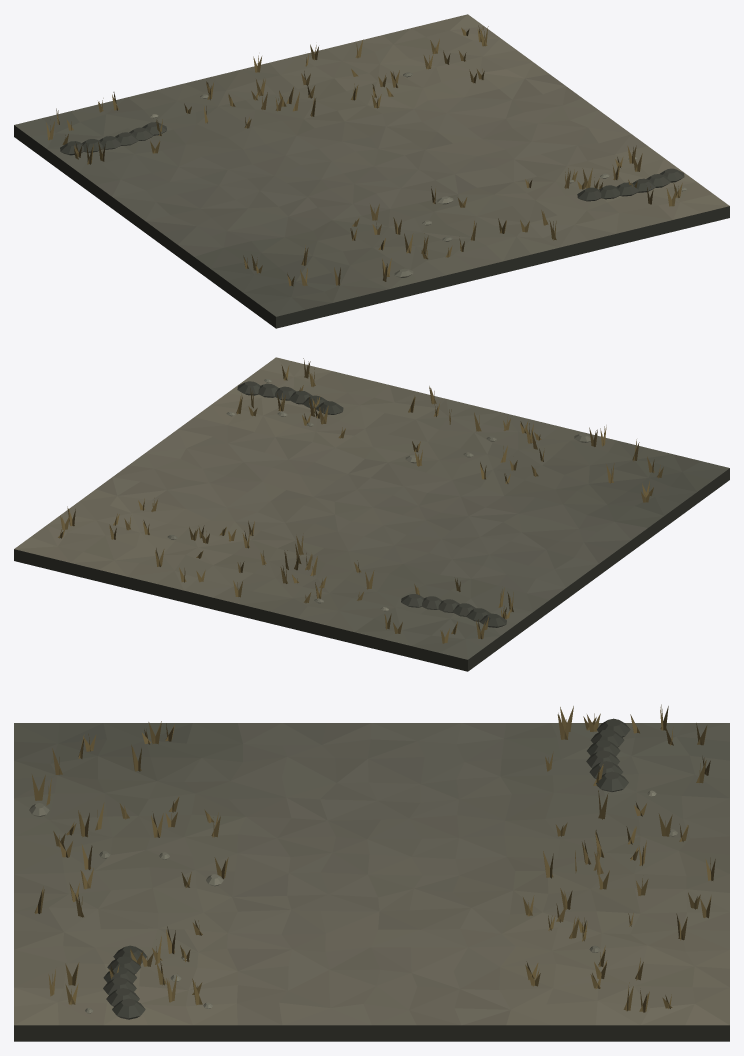
Rendered from CHUNK_TRANS_ash_grassland__glass_ash_desert__0.glb.
3 views of the same model, one above another, from view 1: azimuth 30°, elevation 25°; view 2: azimuth 150°, elevation 25°; view 3: azimuth 270°, elevation 25° (orthographic). The views are drawn at different scales.
Visible parts, largest first — view 1: CHUNK_TRANS_ash_grassland__glass_ash_desert__0; view 2: CHUNK_TRANS_ash_grassland__glass_ash_desert__0; view 3: CHUNK_TRANS_ash_grassland__glass_ash_desert__0.
Part boxes in pixels (x1,y1,x2,y2): CHUNK_TRANS_ash_grassland__glass_ash_desert__0: (14, 14, 729, 328); CHUNK_TRANS_ash_grassland__glass_ash_desert__0: (14, 357, 729, 671); CHUNK_TRANS_ash_grassland__glass_ash_desert__0: (14, 704, 729, 1041).
Size of the model in its own units: 8 by 0.568 by 8.
